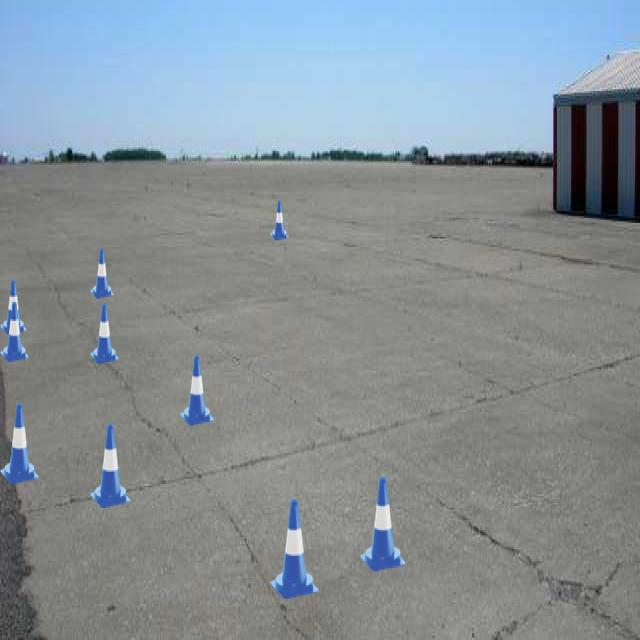blue_cone: (270, 499, 319, 599), (360, 477, 406, 571), (90, 424, 131, 508), (0, 403, 39, 484), (180, 355, 214, 426), (90, 304, 119, 364), (0, 302, 29, 362), (0, 280, 27, 334), (90, 248, 114, 298), (270, 201, 289, 240)
